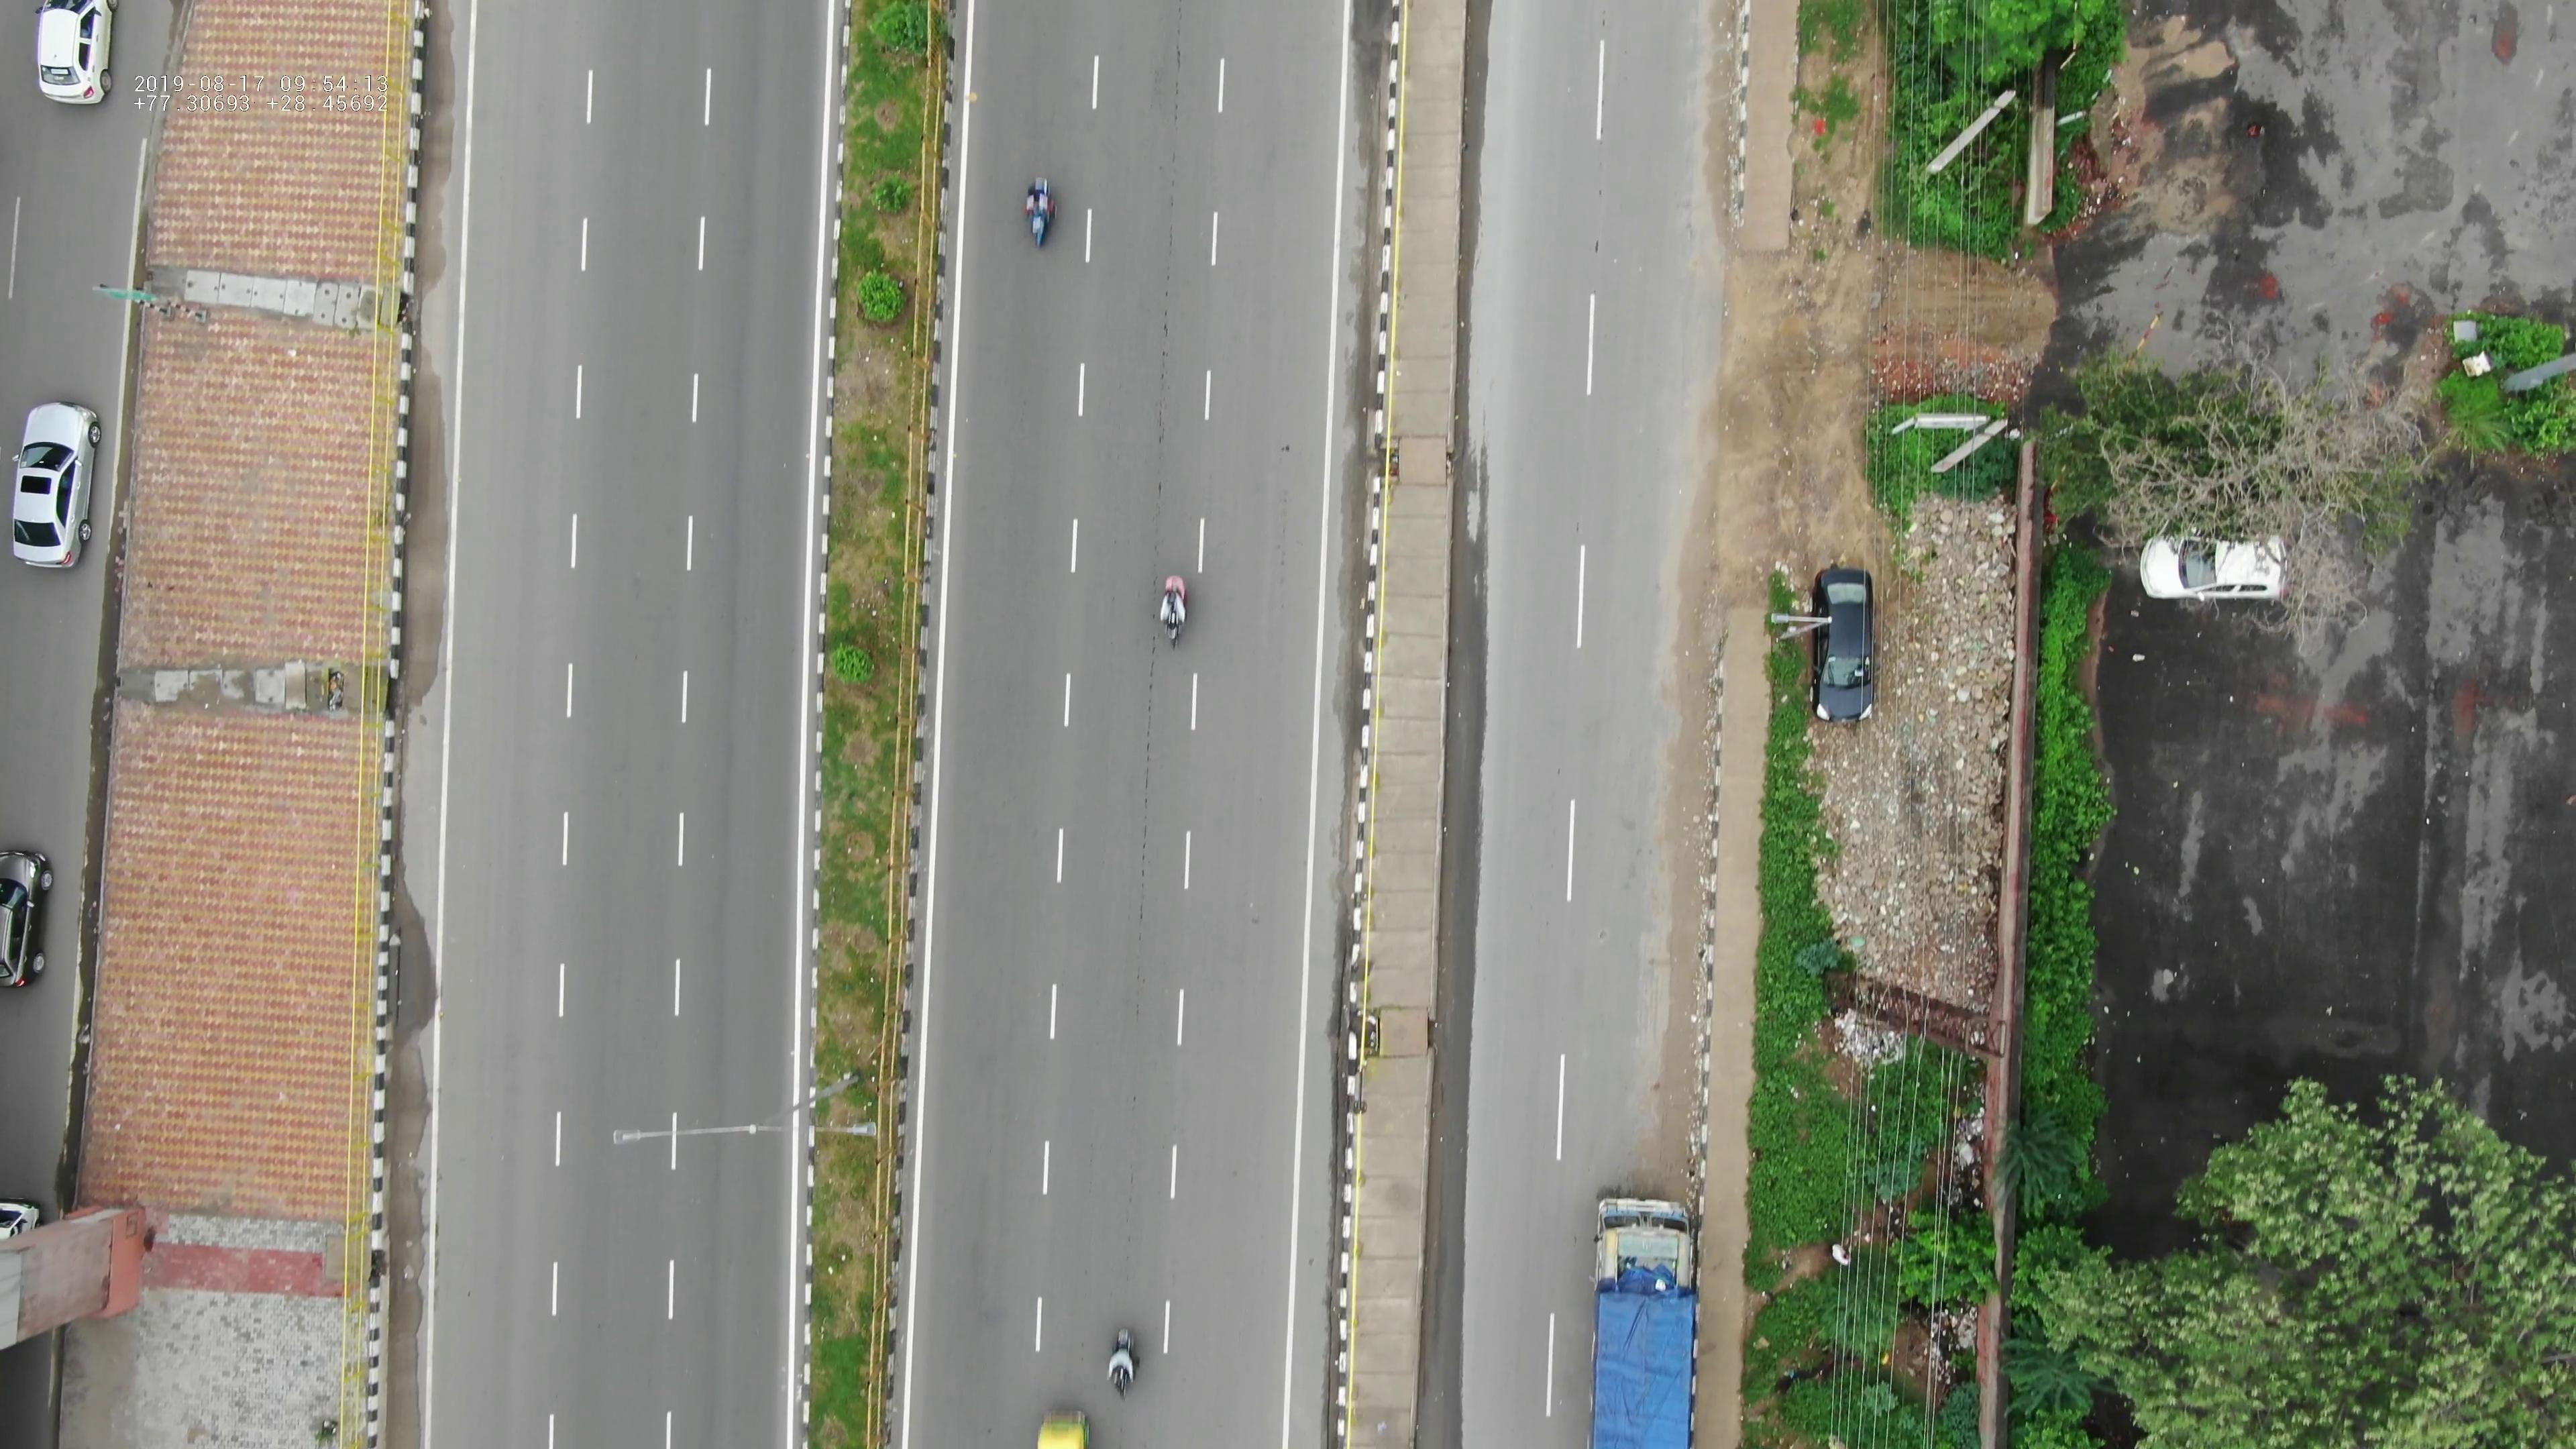Muddy_road: (1651, 717, 1711, 1191)
